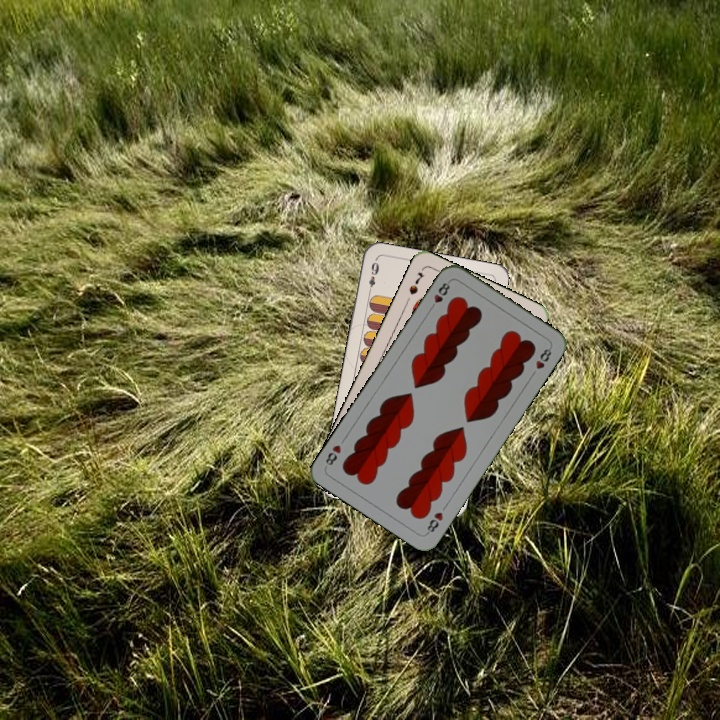E9: (365, 258, 382, 297)
H8: (426, 277, 453, 313), (423, 508, 446, 537)
S7: (405, 268, 427, 298)
